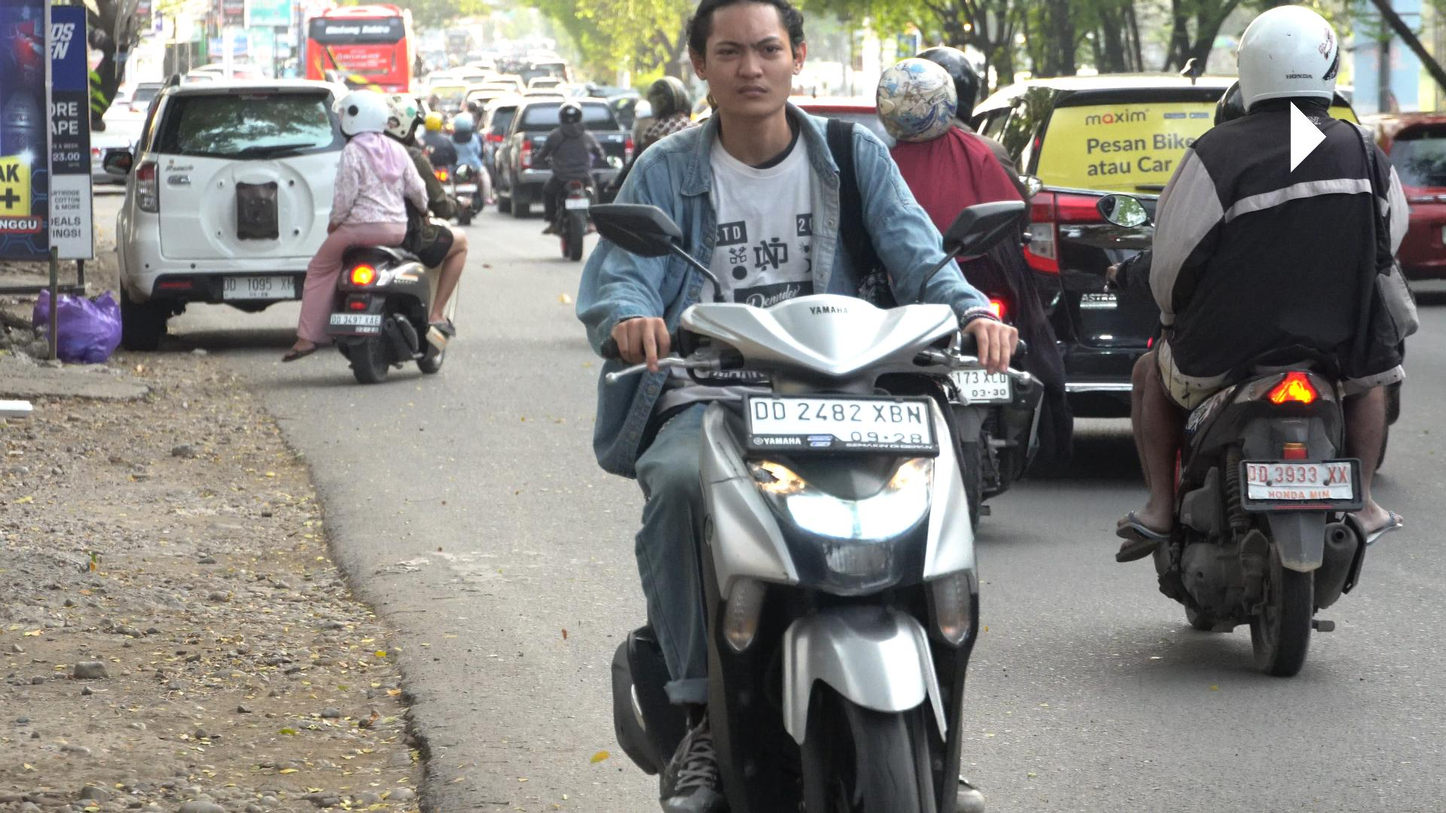number-plate: (746, 390, 946, 455)
